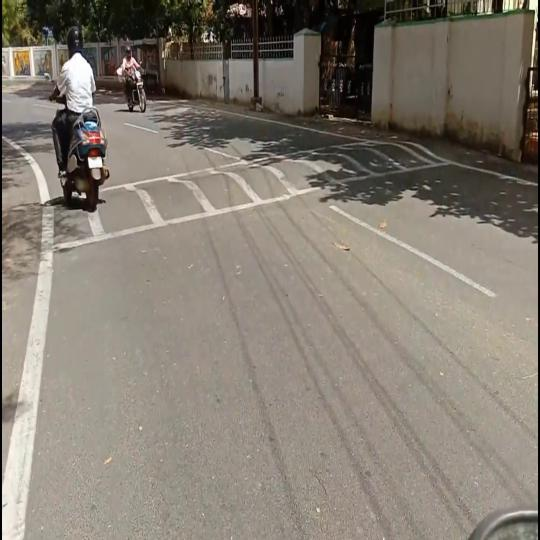Speed Bump: (110, 142, 442, 235), (4, 200, 86, 259)
